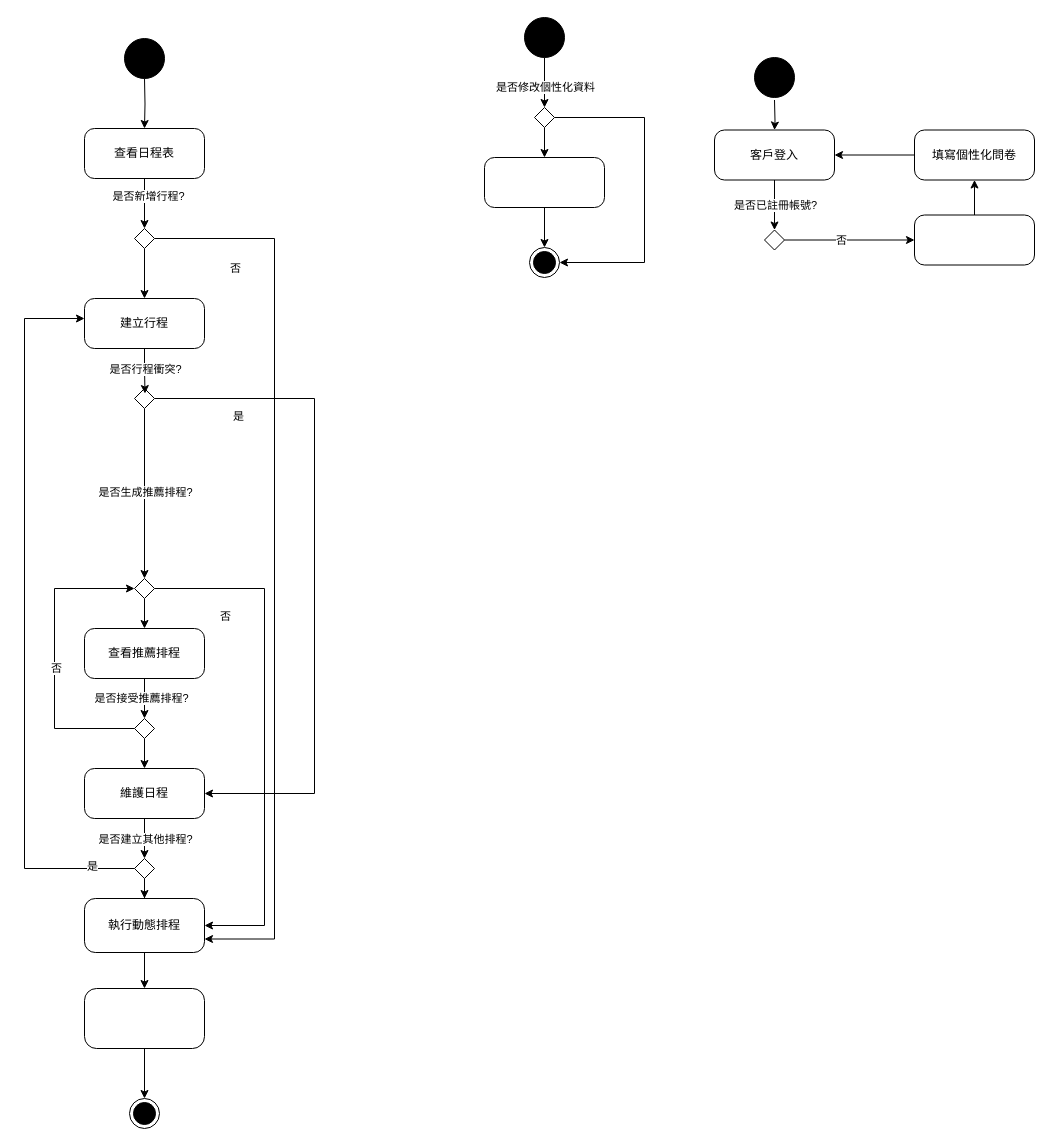
The diagram is 1052 pixels wide and 1146 high, and some of its shapes have lost their labels. Here are the shapes that lost their labels. From the top down, the centre of each, then its label:
At [544,182]: "修改個性化資料".
At [974,239]: "註冊".
At [144,1018]: "使用者回饋".
